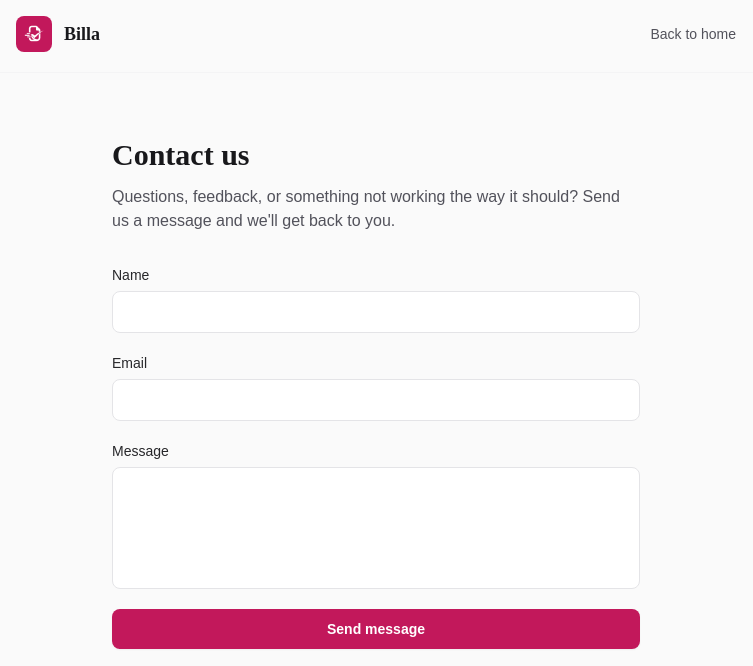
Contact › shows a confirmation after a successful submission
Type "Aline" into the field labelled "Name" at (376, 312), box [112,291,640,333]
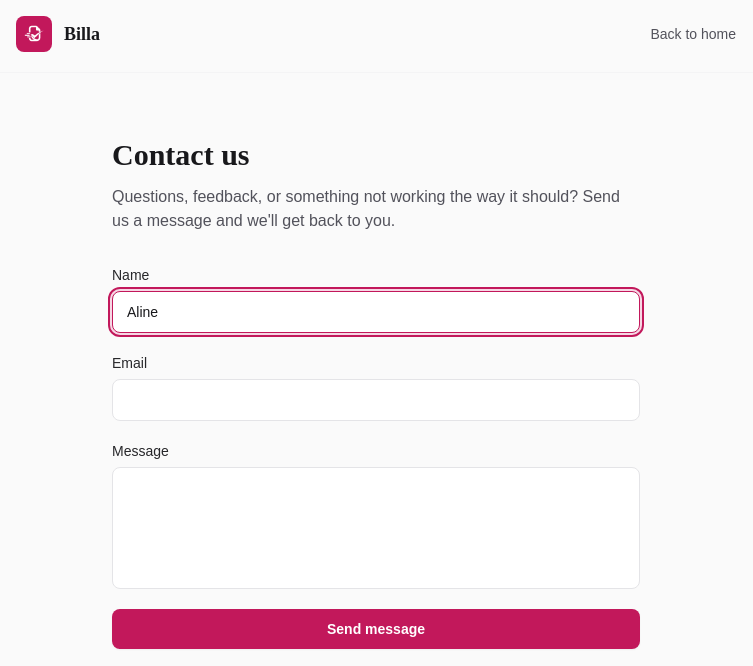
Type "aline@example.com" into the field labelled "Email" at (376, 400), box [112,379,640,421]
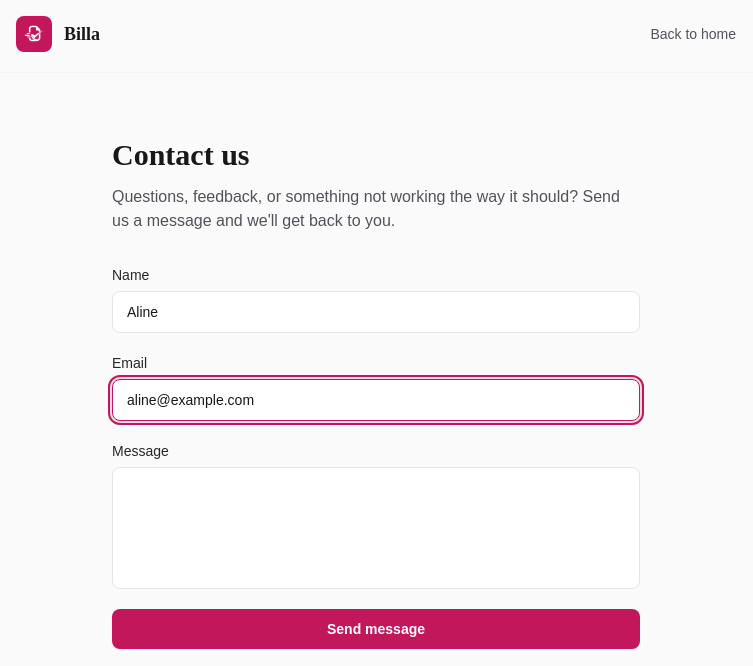
Type "I'd like help setting up my templates." into the text box labelled "Message" at (376, 528), box [112,467,640,589]
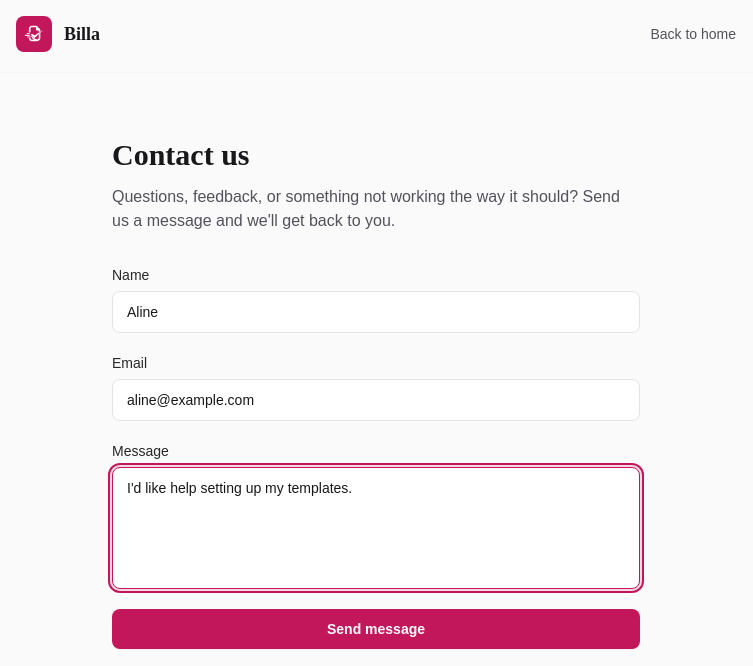
Click the button "Send message" at (376, 629), box [112,609,640,649]
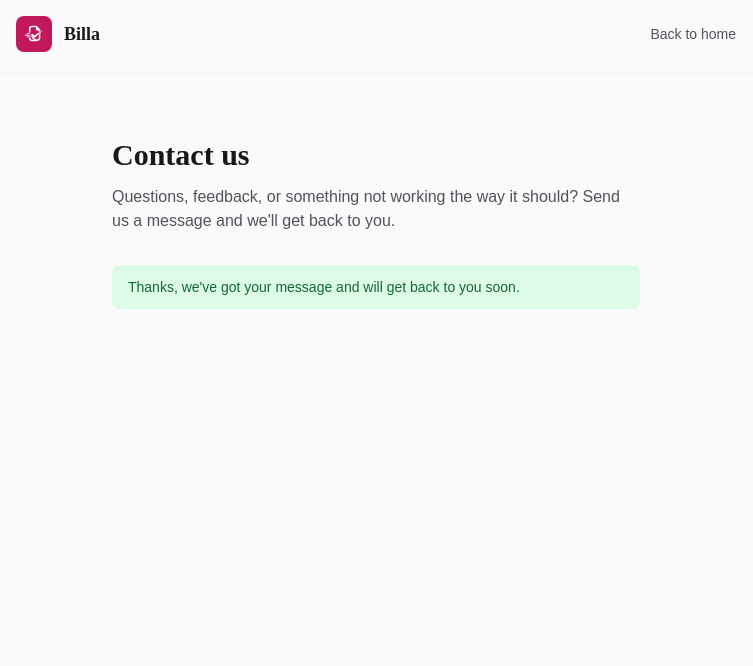
Check: the text "Thanks, we've got your message and will get back to you soon." is shown, box [112,265,640,309]
